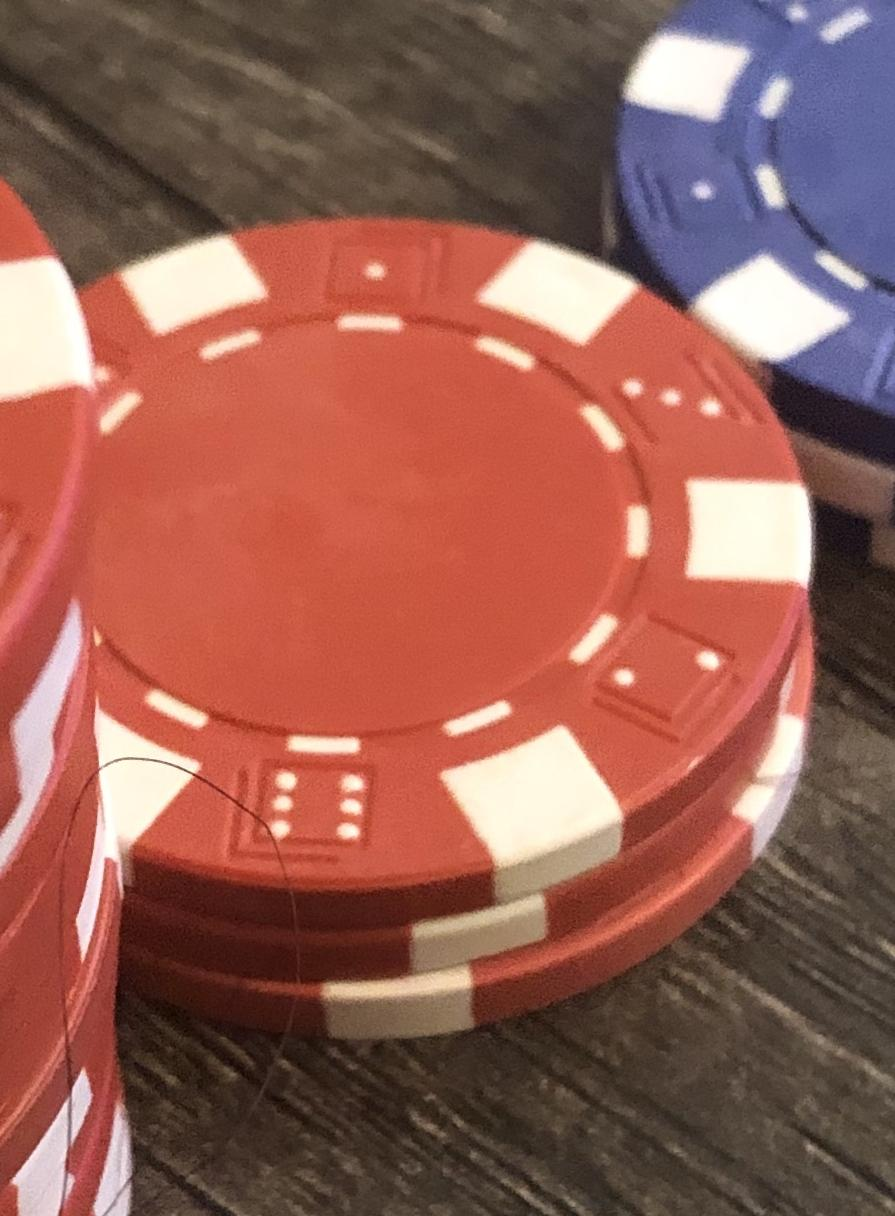Chip: (1, 1, 895, 1216)
